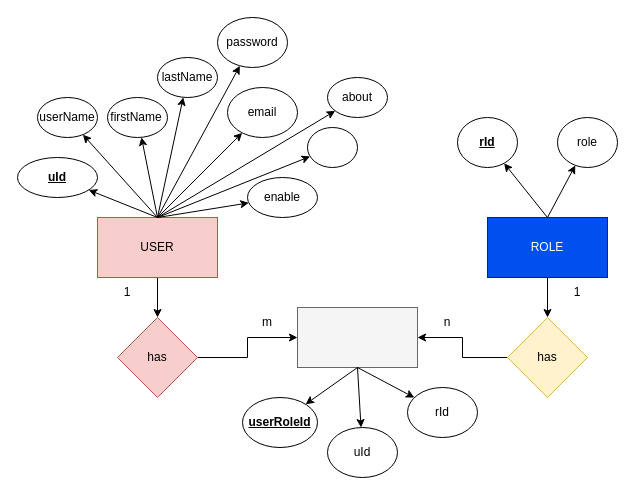
Some shapes in this 635 by 495 pixel diagram are drawn without their labels. Each missing label, with the centre of its shape:
"phone" belongs at (x=332, y=147).
"USER_ROLE" belongs at (x=357, y=337).
